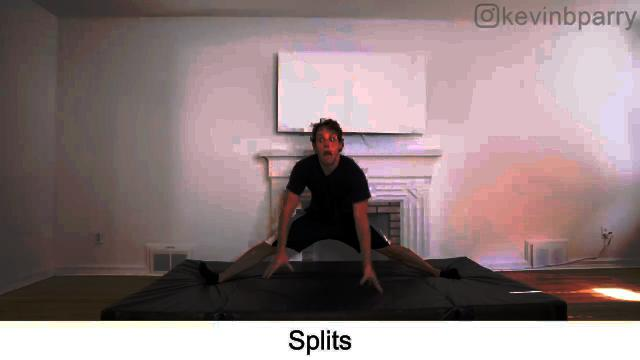jatuh: (189, 114, 471, 300)
